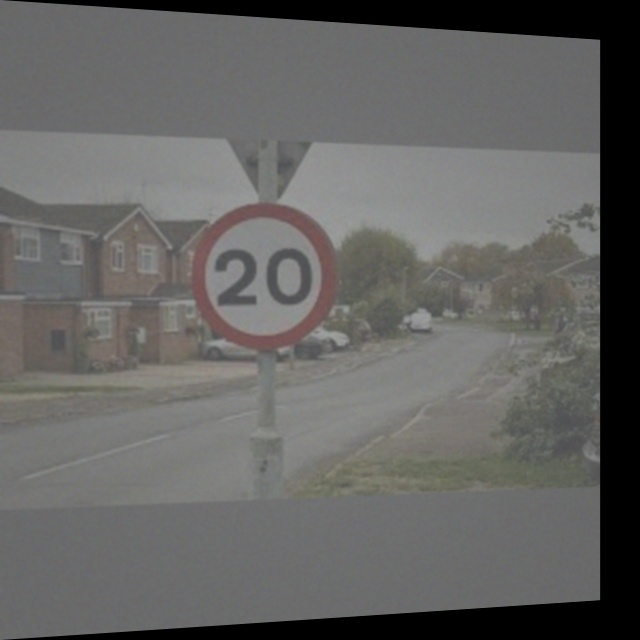Speed_Limit_20: (192, 200, 336, 347)
